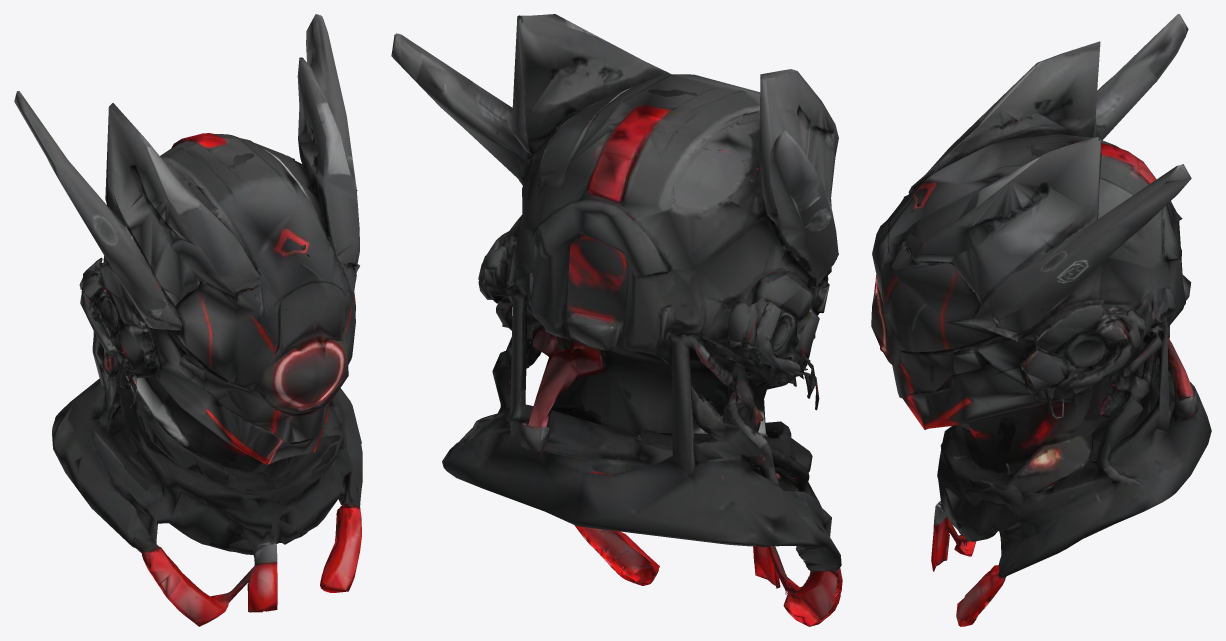
Rendered from android_head.glb.
3 renders of one model, left to right at view 1: azimuth 30°, elevation 25°; view 2: azimuth 150°, elevation 25°; view 3: azimuth 270°, elevation 25°, orthographic. The views are drawn at different scales.
Size of the model in its own units: 1.31 by 1.98 by 1.22.
Materials: 1 (1 with a texture image).
